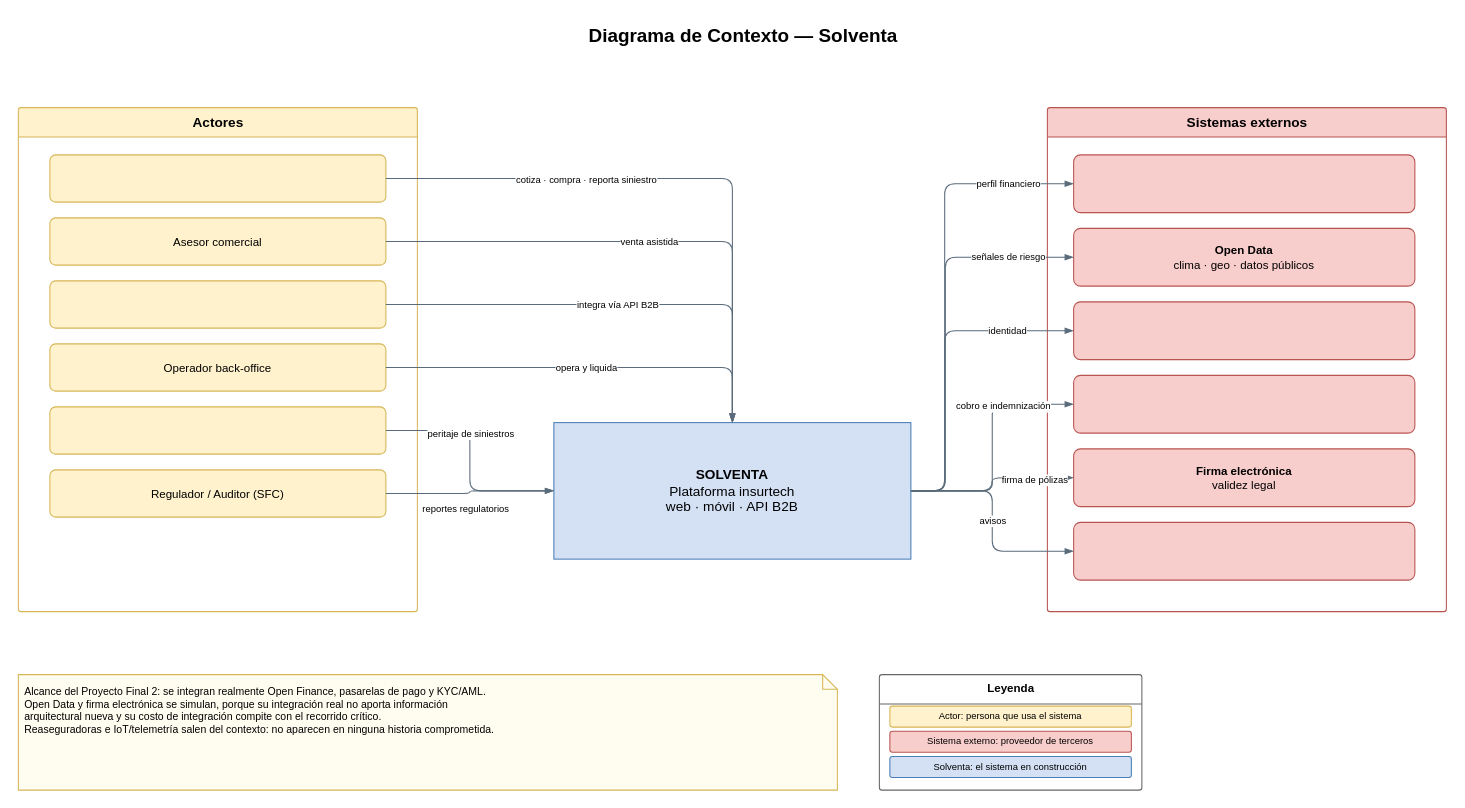
Some shapes in this 1465 by 808 pixel diagram are drawn without their labels. The shapes that lost their labels are listed below. From the top down, each one's centre as x and y in pixels, then its label:
point 217,178: Cliente asegurado
point 1244,183: Open Finance datos financieros con consentimiento
point 217,304: Socio de distribución
point 1244,330: KYC / AML verificación de identidad
point 1244,403: Pasarelas de pago PCI-DSS · multi-región
point 217,430: Perito de siniestros
point 1244,550: Notificaciones push · SMS · correo
